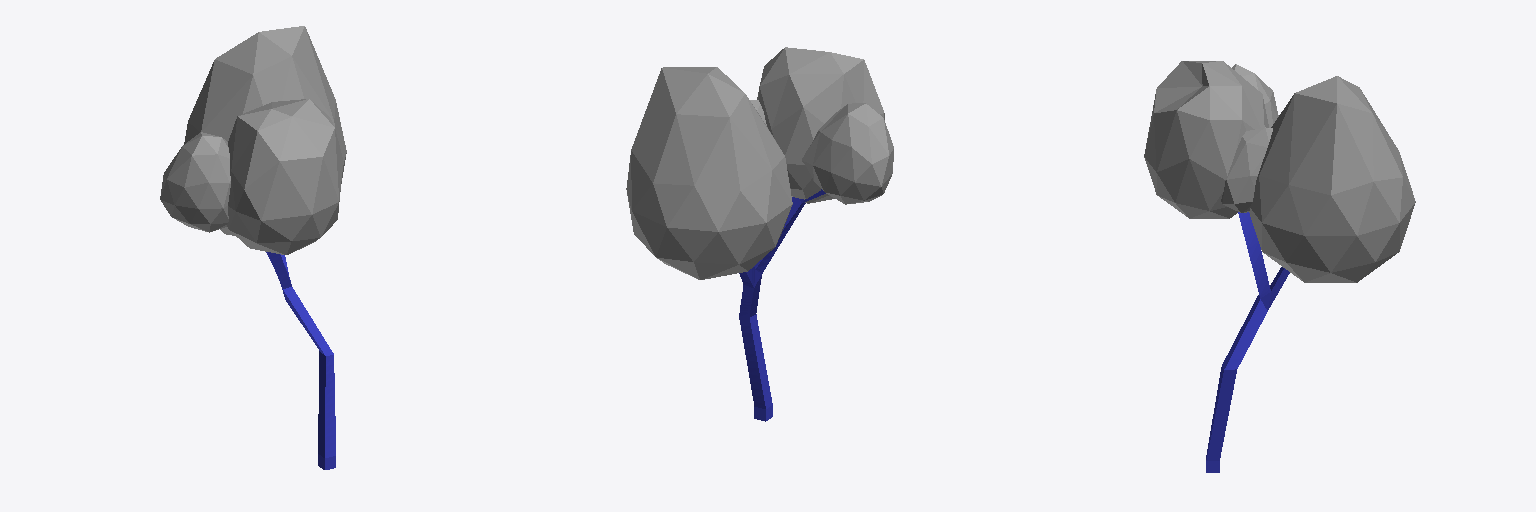
The model's file is tree5.obj.
3 renders of one model, left to right at view 1: azimuth 30°, elevation 25°; view 2: azimuth 150°, elevation 25°; view 3: azimuth 270°, elevation 25°, orthographic.
Visible parts, largest first — view 1: Icosphere.002, Cube; view 2: Icosphere.002, Cube; view 3: Icosphere.002, Cube.
Part boxes in pixels (left/top/right/bottom): Icosphere.002: left=160, top=26, right=346, bottom=254; Cube: left=266, top=252, right=335, bottom=469; Icosphere.002: left=626, top=47, right=893, bottom=279; Cube: left=739, top=189, right=825, bottom=421; Icosphere.002: left=1144, top=61, right=1415, bottom=282; Cube: left=1206, top=212, right=1289, bottom=472.
Bounding box in the file's own units: 7.26 × 12.88 × 8.11.